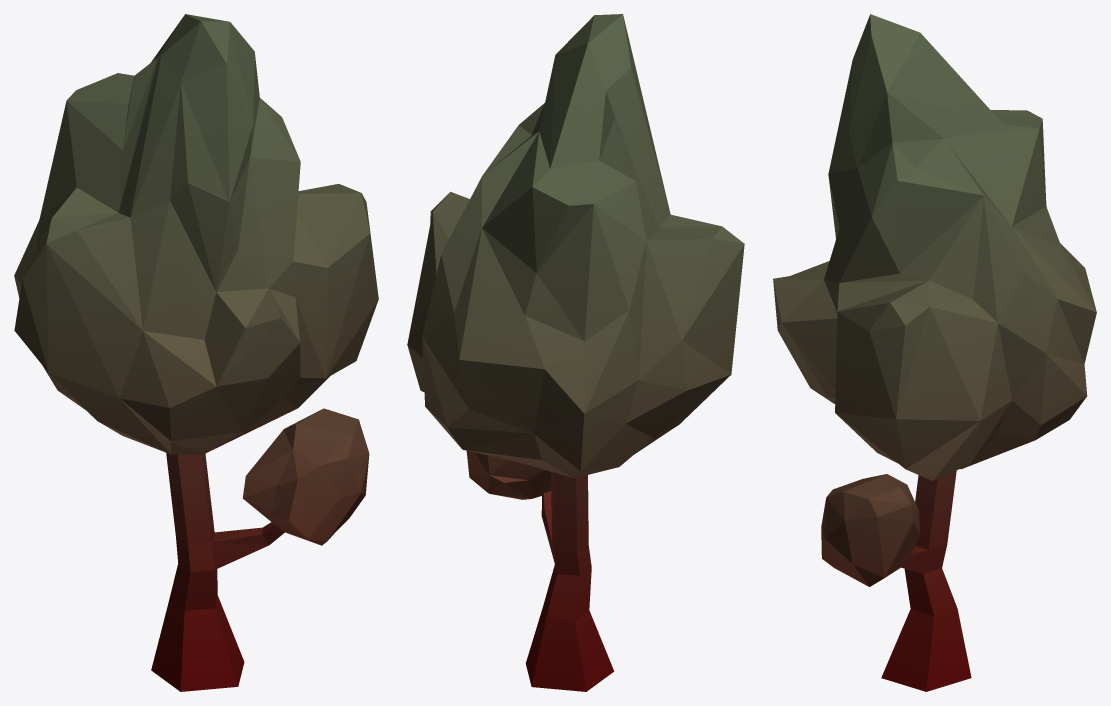
File: synty-tree-03.gltf
3 renders of one model, left to right at view 1: azimuth 30°, elevation 25°; view 2: azimuth 150°, elevation 25°; view 3: azimuth 270°, elevation 25°, orthographic. The views are drawn at different scales.
Visible parts, largest first — view 1: SM_Tree_03; view 2: SM_Tree_03; view 3: SM_Tree_03.
Part boxes in pixels (box(x1,y1,x2,y2)): SM_Tree_03: box(14, 14, 378, 691); SM_Tree_03: box(407, 14, 744, 691); SM_Tree_03: box(773, 14, 1096, 691).
Size of the model in its own units: 3.18 by 6.21 by 2.83.
1 material, 1 textured.
